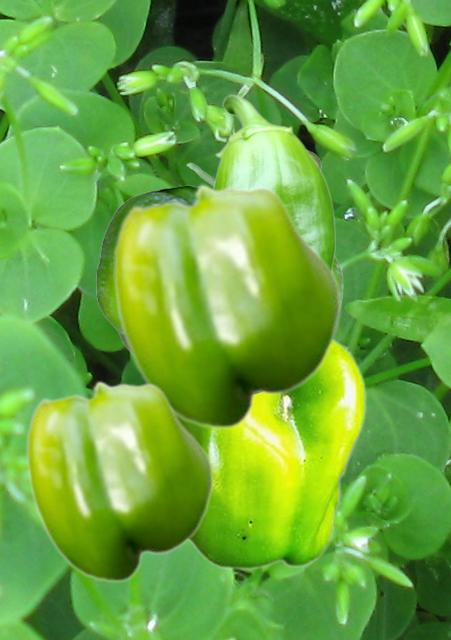bell_pepper: (96, 148, 342, 396), (113, 183, 341, 429), (183, 338, 365, 569), (26, 380, 213, 582), (213, 94, 335, 267)
